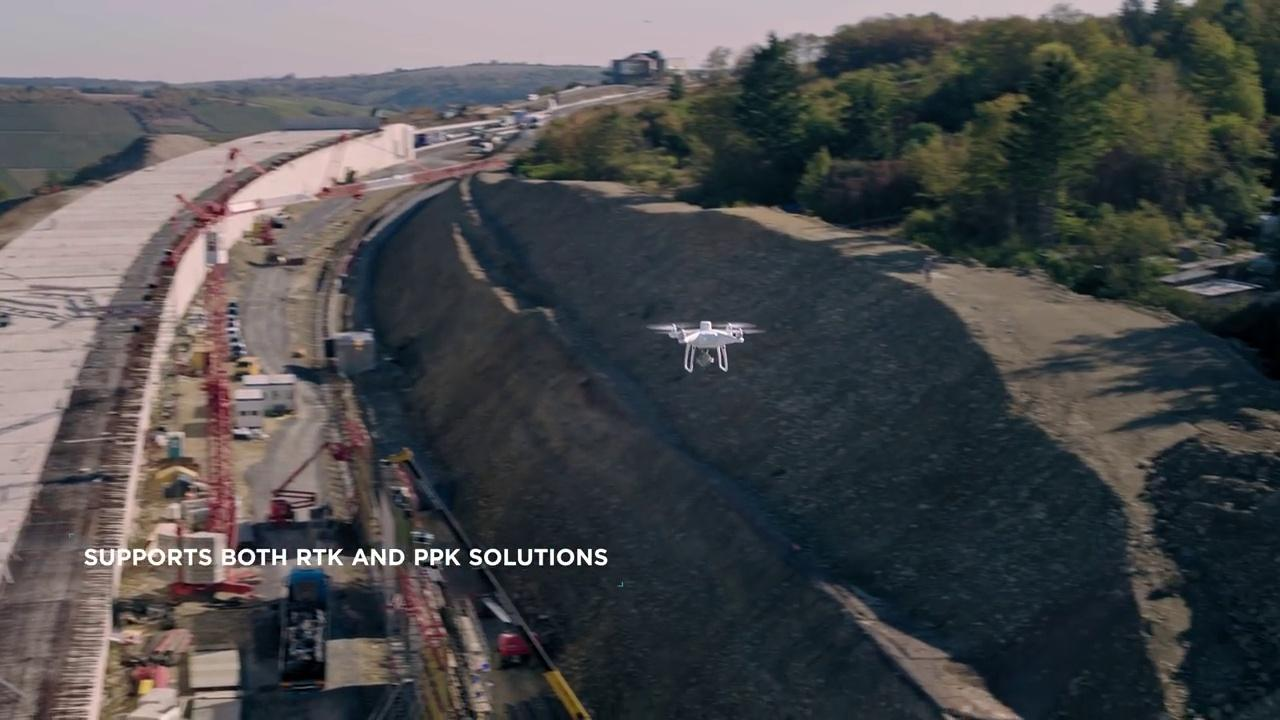drone: (644, 315, 767, 376)
